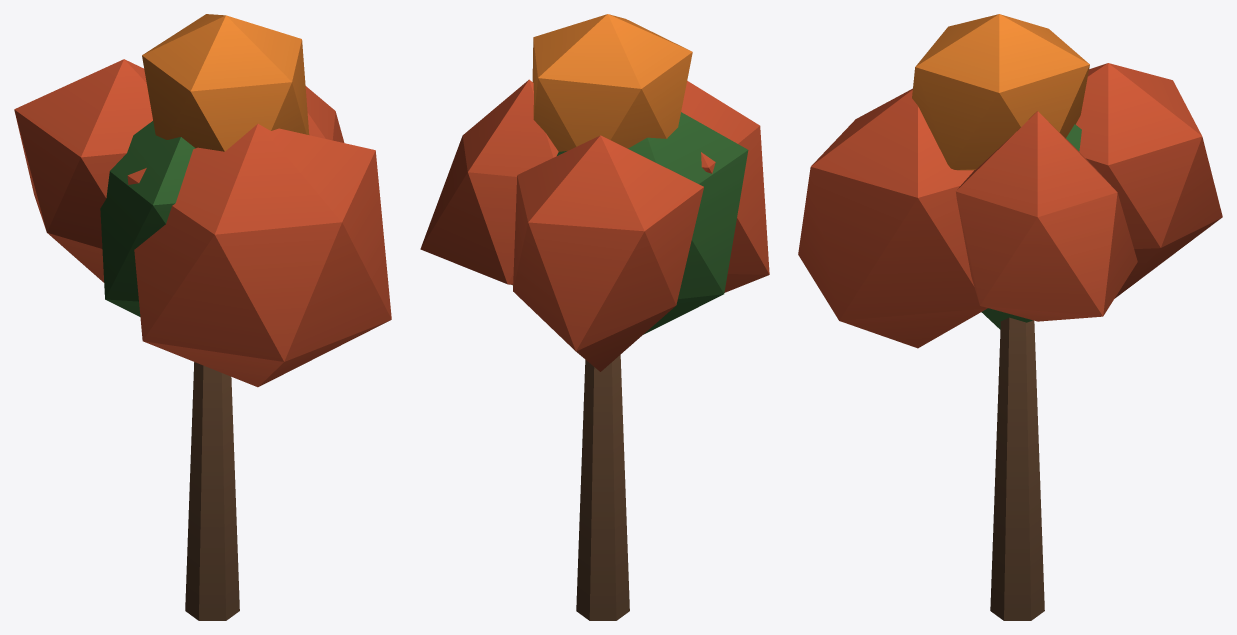
File: tree_D.glb
The picture shows the model from 3 angles, left to right: view 1: azimuth 30°, elevation 25°; view 2: azimuth 150°, elevation 25°; view 3: azimuth 270°, elevation 25°; orthographic projection.
Visible parts, largest first — view 1: tree_D; view 2: tree_D; view 3: tree_D.
Part boxes in pixels (bbox=[...]): tree_D: bbox=[14, 14, 391, 620]; tree_D: bbox=[420, 14, 769, 620]; tree_D: bbox=[798, 14, 1222, 620].
Size of the model in its own units: 1 by 2.18 by 1.4.
Materials: 1 (1 with a texture image).
